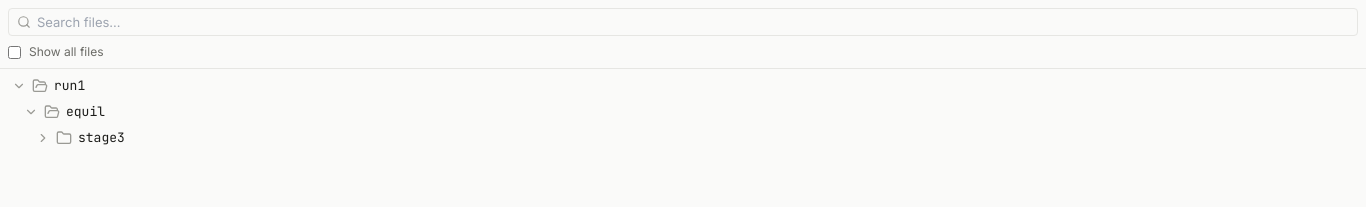
it: FilePanel folder tree › expands a depth-2 folder — collapsed by default — with a single click
Expected: the text "x.mdin" is not shown
Step 1. Click the button "stage3" → coordinates (101, 138), box [4,125,1362,151]
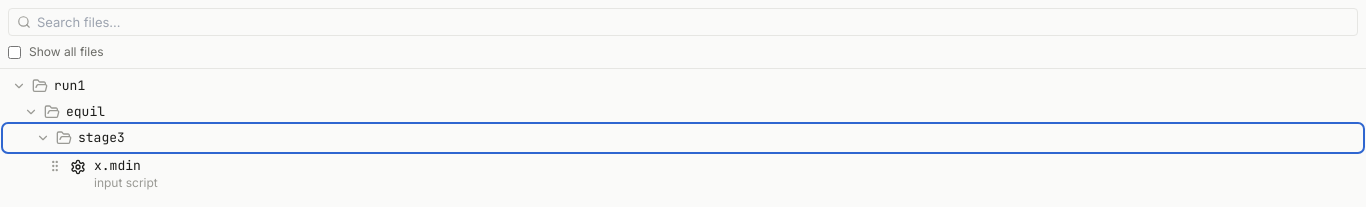
Now the button "x.mdin" is shown, box [94,157,1354,175]
